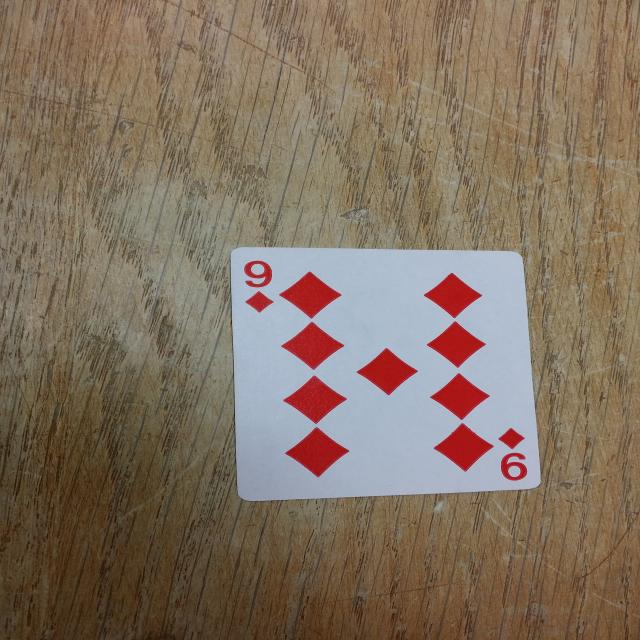9d: (228, 256, 291, 320), (481, 424, 543, 489)
